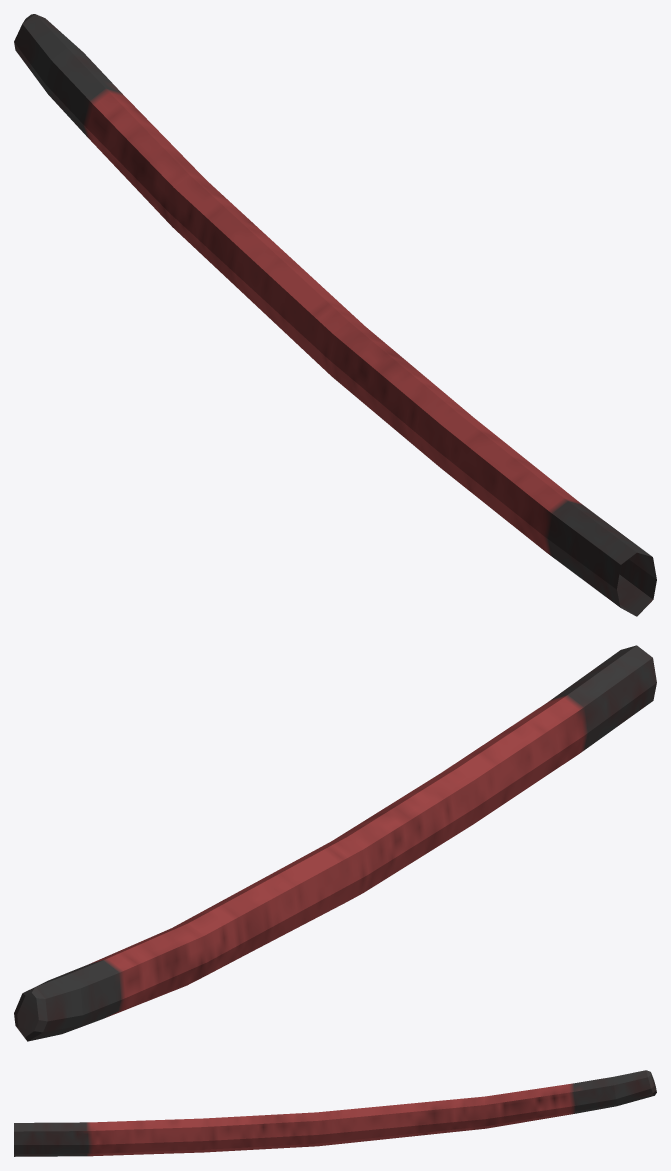
File: saya.obj
3 views of the same model, one above another, from view 1: azimuth 30°, elevation 25°; view 2: azimuth 150°, elevation 25°; view 3: azimuth 270°, elevation 25° (orthographic). The views are drawn at different scales.
Parts seen in each view (by area): view 1: saya_Cube.001; view 2: saya_Cube.001; view 3: saya_Cube.001.
Part boxes in pixels (bbox=[...]): saya_Cube.001: bbox=[14, 14, 656, 616]; saya_Cube.001: bbox=[14, 645, 656, 1041]; saya_Cube.001: bbox=[14, 1070, 656, 1156].
Size of the model in its own units: 0.0495 by 0.1934 by 1.31.
